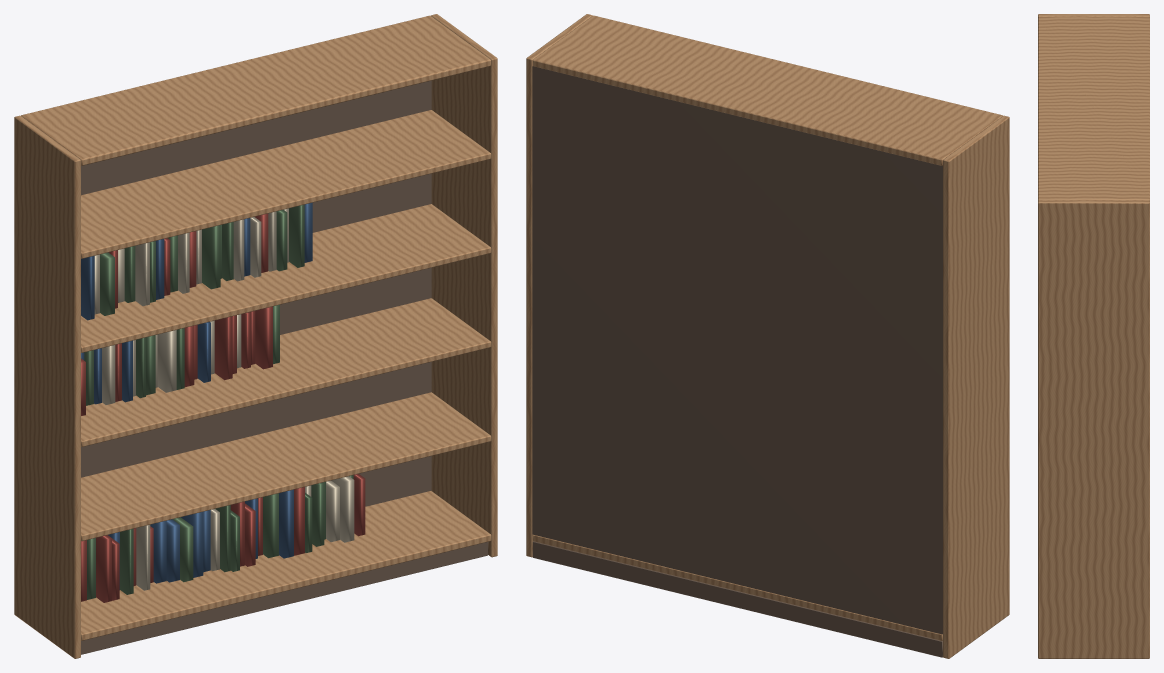
File: bookshelf-160.raw.glb
3 renders of one model, left to right at view 1: azimuth 30°, elevation 25°; view 2: azimuth 150°, elevation 25°; view 3: azimuth 270°, elevation 25°, orthographic. The views are drawn at different scales.
Visible parts, largest first — view 1: bookshelf-160; view 2: bookshelf-160; view 3: bookshelf-160.
Part boxes in pixels (x1,y1,x2,y2): bookshelf-160: (14,14,497,658); bookshelf-160: (526,14,1009,658); bookshelf-160: (1038,14,1149,658).
Bounding box in the file's own units: 1.6 × 1.8 × 0.4.
Materials: 6 (1 with a texture image).
